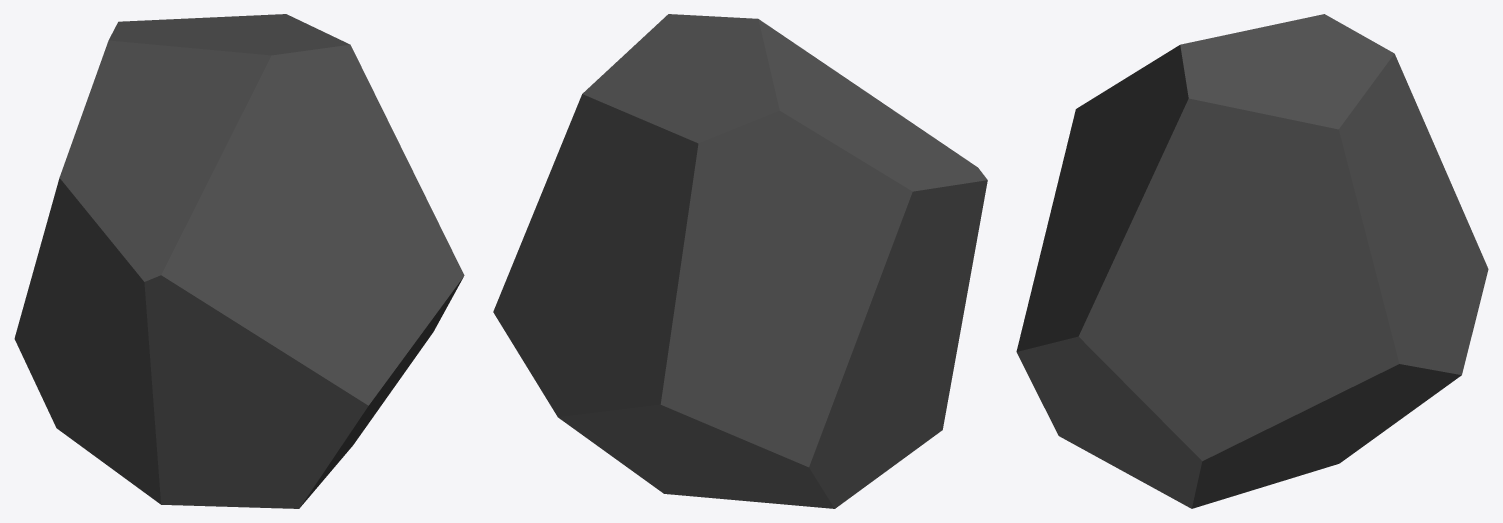
Rendered from StoneSmall6.fbx.
The picture shows the model from 3 angles, left to right: view 1: azimuth 30°, elevation 25°; view 2: azimuth 150°, elevation 25°; view 3: azimuth 270°, elevation 25°; orthographic projection. The views are drawn at different scales.
Parts seen in each view (by area): view 1: StoneSmall6; view 2: StoneSmall6; view 3: StoneSmall6.
Boxes of the visible parts, <box> form: StoneSmall6: <box>14,14,464,508</box>; StoneSmall6: <box>493,14,987,508</box>; StoneSmall6: <box>1016,14,1488,508</box>.
Bounding box in the file's own units: 151 × 170 × 173.
Materials: 1 (1 with a texture image).
